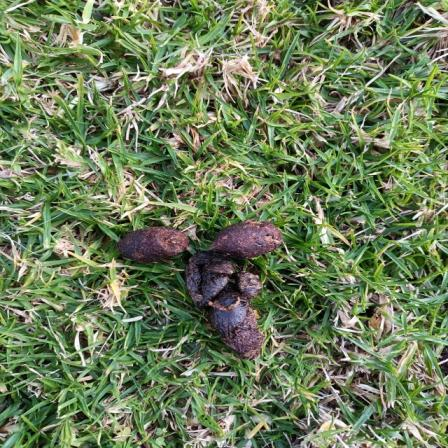dog-poop: (113, 213, 298, 365)
